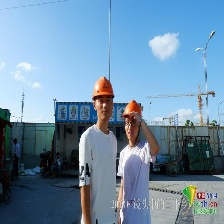helmet: (90, 75, 116, 103), (122, 99, 144, 123)
no-vest: (87, 126, 119, 211), (120, 138, 151, 223)
person: (78, 76, 120, 224), (119, 98, 155, 224)
